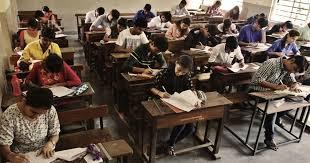student: (1, 83, 78, 161), (153, 52, 200, 115), (245, 54, 308, 100), (122, 34, 174, 84), (33, 53, 91, 97), (20, 25, 82, 63), (109, 18, 156, 54), (207, 36, 248, 74), (266, 25, 307, 58), (181, 25, 223, 57), (236, 18, 272, 46), (163, 16, 197, 40)
